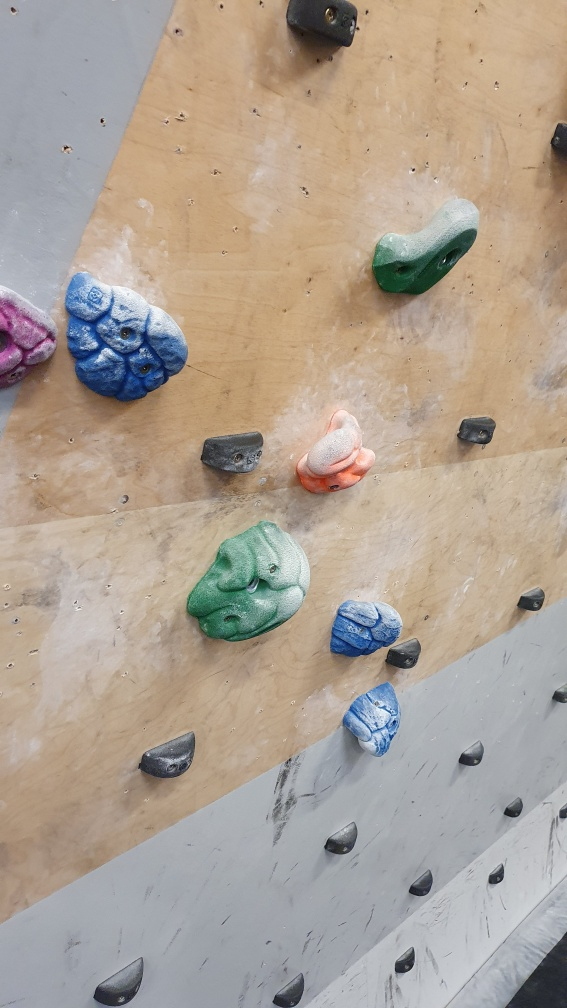Jug: (63, 268, 194, 409), (184, 518, 314, 647), (368, 195, 481, 298), (288, 405, 380, 500), (1, 282, 61, 396), (340, 680, 404, 760), (331, 595, 402, 662)
Pinch: (280, 1, 362, 53), (199, 428, 267, 477), (137, 730, 200, 780), (91, 952, 147, 1007), (451, 411, 498, 453), (323, 821, 362, 860), (270, 970, 306, 1008), (383, 640, 428, 670), (516, 582, 550, 614), (406, 866, 437, 900), (389, 945, 420, 977), (456, 741, 489, 769), (548, 116, 567, 162), (500, 797, 528, 820), (484, 864, 508, 887), (551, 678, 567, 705)
